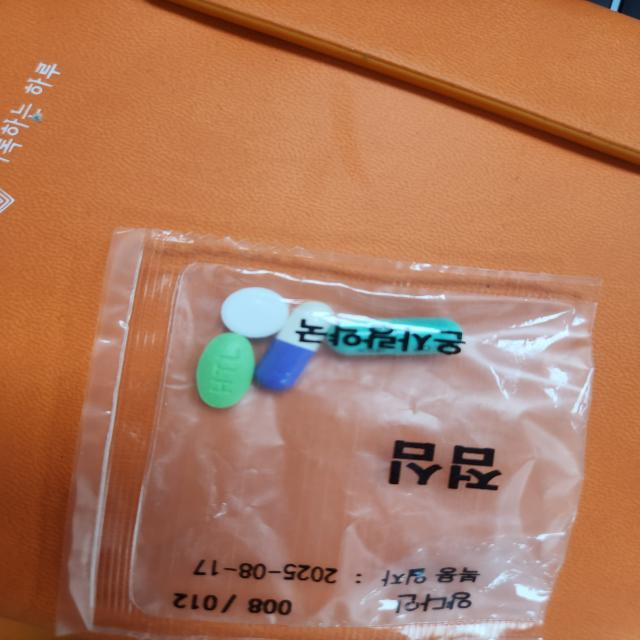러키펜정: (221, 288, 293, 341)
씨엠지세파클러캡슐: (253, 308, 336, 395)
에르도캡슐: (326, 320, 464, 359)
휴티렌정: (192, 333, 257, 412)
